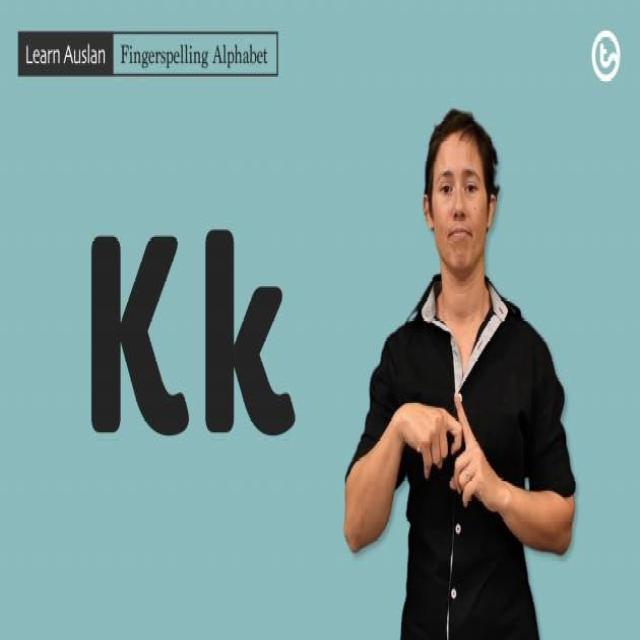K: (395, 389, 490, 516)
